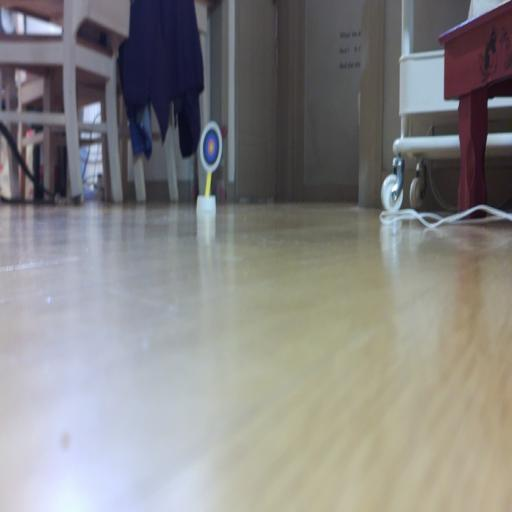target: (200, 121, 222, 171)
